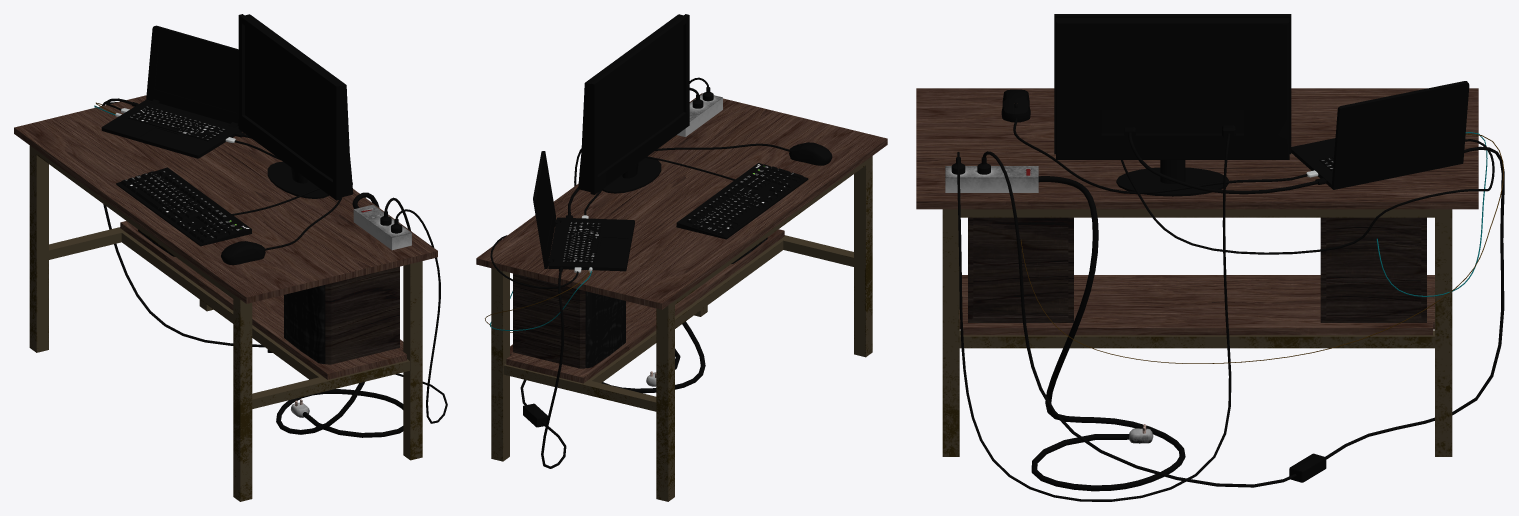
Rendered from desktop.glb.
The picture shows the model from 3 angles, left to right: view 1: azimuth 30°, elevation 25°; view 2: azimuth 150°, elevation 25°; view 3: azimuth 270°, elevation 25°; orthographic projection. The views are drawn at different scales.
Parts seen in each view (by area): view 1: p_tablaMadera, p_Monitor, p_Cuerpo, pCube286, p_Parlante, polySurface2, p_Estante, pCylinder13, p_Teclado, p_Enchufe, pCylinder1, pCylinder12 (+2 smaller); view 2: p_tablaMadera, p_Monitor, p_Cuerpo, p_Parlante, pCube286, polySurface2, p_Estante, p_Teclado, pCylinder1, pCylinder12, p_Enchufe, pCube326 (+2 smaller); view 3: p_Monitor, p_tablaMadera, p_Parlante, p_Estante, p_Cuerpo, pCube286, polySurface2, pCylinder13, pCylinder12, pCylinder8, pCylinder1, p_Enchufe (+6 smaller).
Boxes of the visible parts, x1,y1,x2,y2 form: p_tablaMadera: (14, 95, 437, 303); p_Monitor: (238, 14, 353, 200); p_Cuerpo: (29, 145, 422, 501); pCube286: (101, 25, 241, 158); p_Parlante: (138, 229, 399, 364); polySurface2: (49, 227, 409, 408); p_Estante: (120, 221, 406, 379); pCylinder13: (276, 192, 403, 437); p_Teclado: (116, 167, 251, 246); p_Enchufe: (353, 204, 411, 250); pCylinder1: (267, 161, 329, 198); pCylinder12: (102, 98, 410, 347); p_tablaMadera: (476, 93, 887, 309); p_Monitor: (578, 14, 689, 194); p_Cuerpo: (491, 156, 872, 501); p_Parlante: (513, 237, 767, 368); pCube286: (533, 151, 634, 271); polySurface2: (503, 235, 853, 411); p_Estante: (506, 229, 784, 383); p_Teclado: (676, 163, 808, 239); pCylinder1: (602, 158, 661, 193); pCylinder12: (520, 87, 698, 468); p_Enchufe: (677, 93, 722, 136); pCube326: (789, 142, 832, 165); p_Monitor: (1054, 14, 1291, 159); p_tablaMadera: (916, 88, 1478, 209); p_Parlante: (968, 217, 1426, 322); p_Estante: (959, 275, 1434, 335); p_Cuerpo: (942, 209, 1452, 456); pCube286: (1291, 81, 1469, 189); polySurface2: (959, 330, 1434, 348); pCylinder13: (1031, 176, 1185, 491); pCylinder12: (982, 146, 1504, 487); pCylinder8: (957, 133, 1231, 501); pCylinder1: (1116, 160, 1228, 196); p_Enchufe: (945, 166, 1038, 192).
Bounding box in the file's own units: 87.45 × 111 × 139.
Materials: 4 (4 with a texture image).
